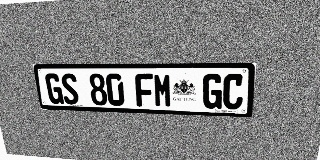0: (105, 73, 125, 106)
8: (88, 73, 108, 106)
C: (222, 74, 245, 110)
F: (135, 73, 154, 107)
G: (202, 74, 223, 109), (44, 73, 64, 104)
M: (153, 74, 172, 108)
S: (60, 73, 80, 105)
